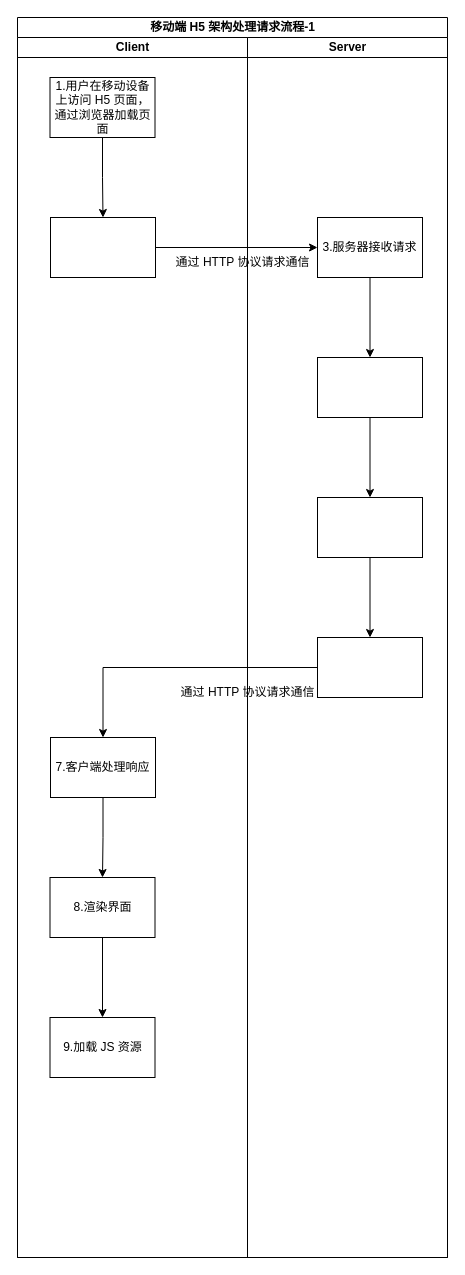
Image size: 465x1275. Some labels were removed from this diagram. Each missing label, with the centre of its shape:
"2.浏览器发起网络请求" goes at [103,247].
"4.中间件处理请求" goes at [369,387].
"5.业务逻辑处理" goes at [369,527].
"6.生成响应" goes at [369,667].
